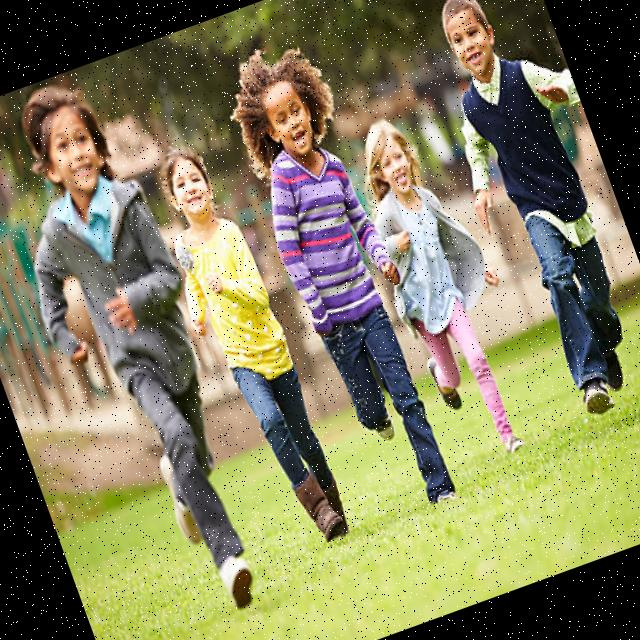Person: (0, 67, 291, 635), (212, 31, 476, 516), (406, 0, 640, 429), (136, 139, 356, 559), (332, 99, 558, 472)
